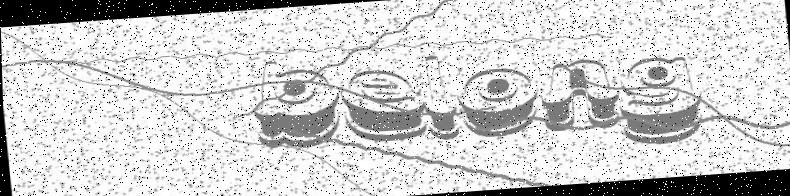b: (245, 53, 346, 154)
e: (338, 62, 424, 143)
g: (616, 55, 704, 149)
l: (416, 48, 462, 141)
n: (538, 51, 621, 134)
o: (452, 67, 542, 139)
